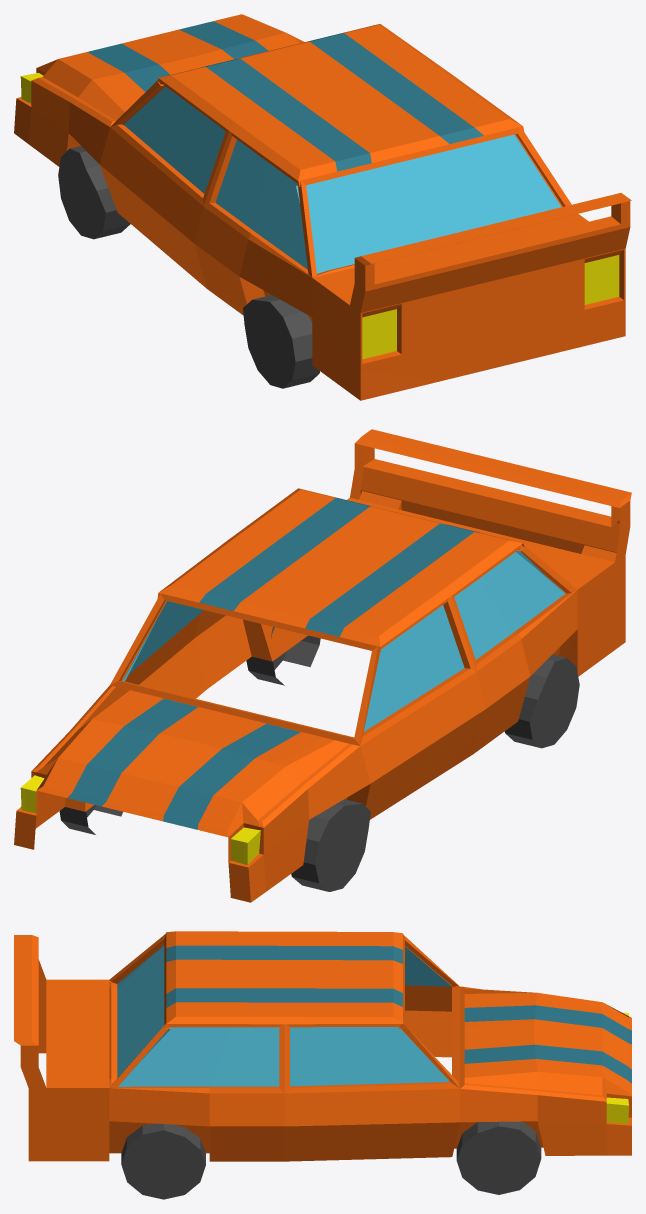
Rendered from PlayerCar.fbx.
3 views of the same model, one above another, from view 1: azimuth 30°, elevation 25°; view 2: azimuth 150°, elevation 25°; view 3: azimuth 270°, elevation 25° (orthographic). The views are drawn at different scales.
Parts seen in each view (by area): view 1: Cube.002; view 2: Cube.002; view 3: Cube.002.
Part boxes in pixels (x1,y1,x2,y2): Cube.002: (14, 14, 631, 400); Cube.002: (14, 429, 631, 902); Cube.002: (14, 931, 631, 1199).
Size of the model in its own units: 179 by 388 by 116.
